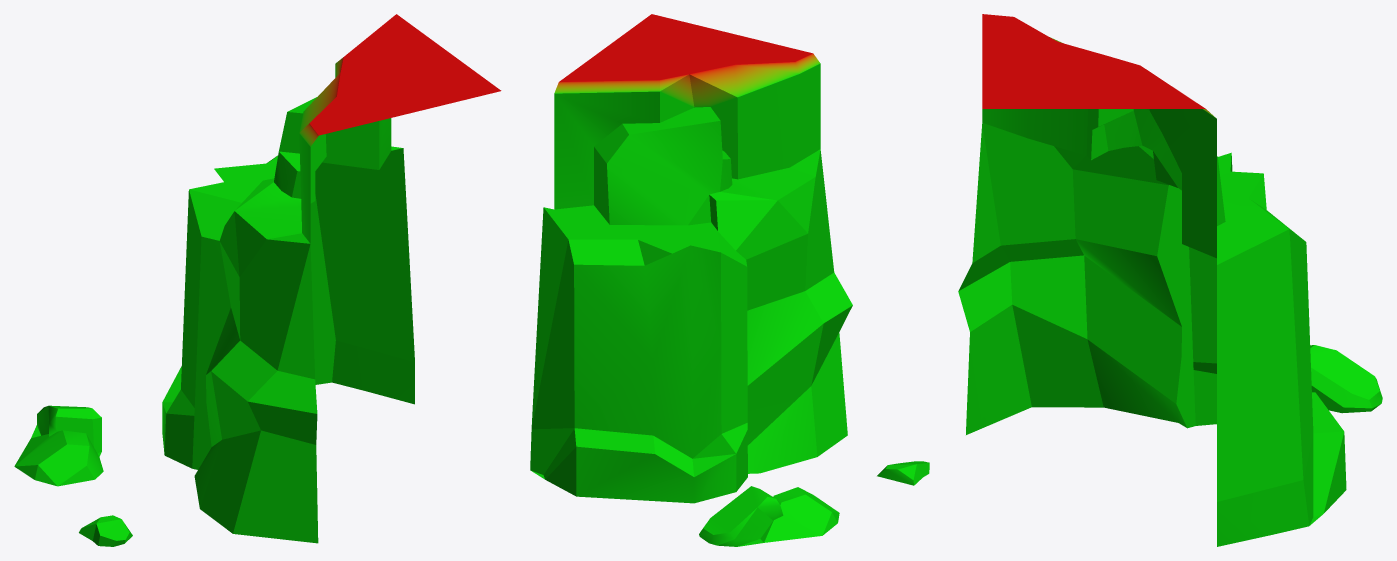
Rendered from Cliff_Corner_A.fbx.
3 views of the same model, side by side, from view 1: azimuth 30°, elevation 25°; view 2: azimuth 150°, elevation 25°; view 3: azimuth 270°, elevation 25° (orthographic). The views are drawn at different scales.
Parts seen in each view (by area): view 1: cliff_corner_A; view 2: cliff_corner_A; view 3: cliff_corner_A.
Part boxes in pixels (box(x1,y1,x2,y2)): cliff_corner_A: box(14, 14, 501, 546); cliff_corner_A: box(530, 14, 929, 546); cliff_corner_A: box(958, 14, 1382, 546).
Bounding box in the file's own units: 201 × 181 × 200.
